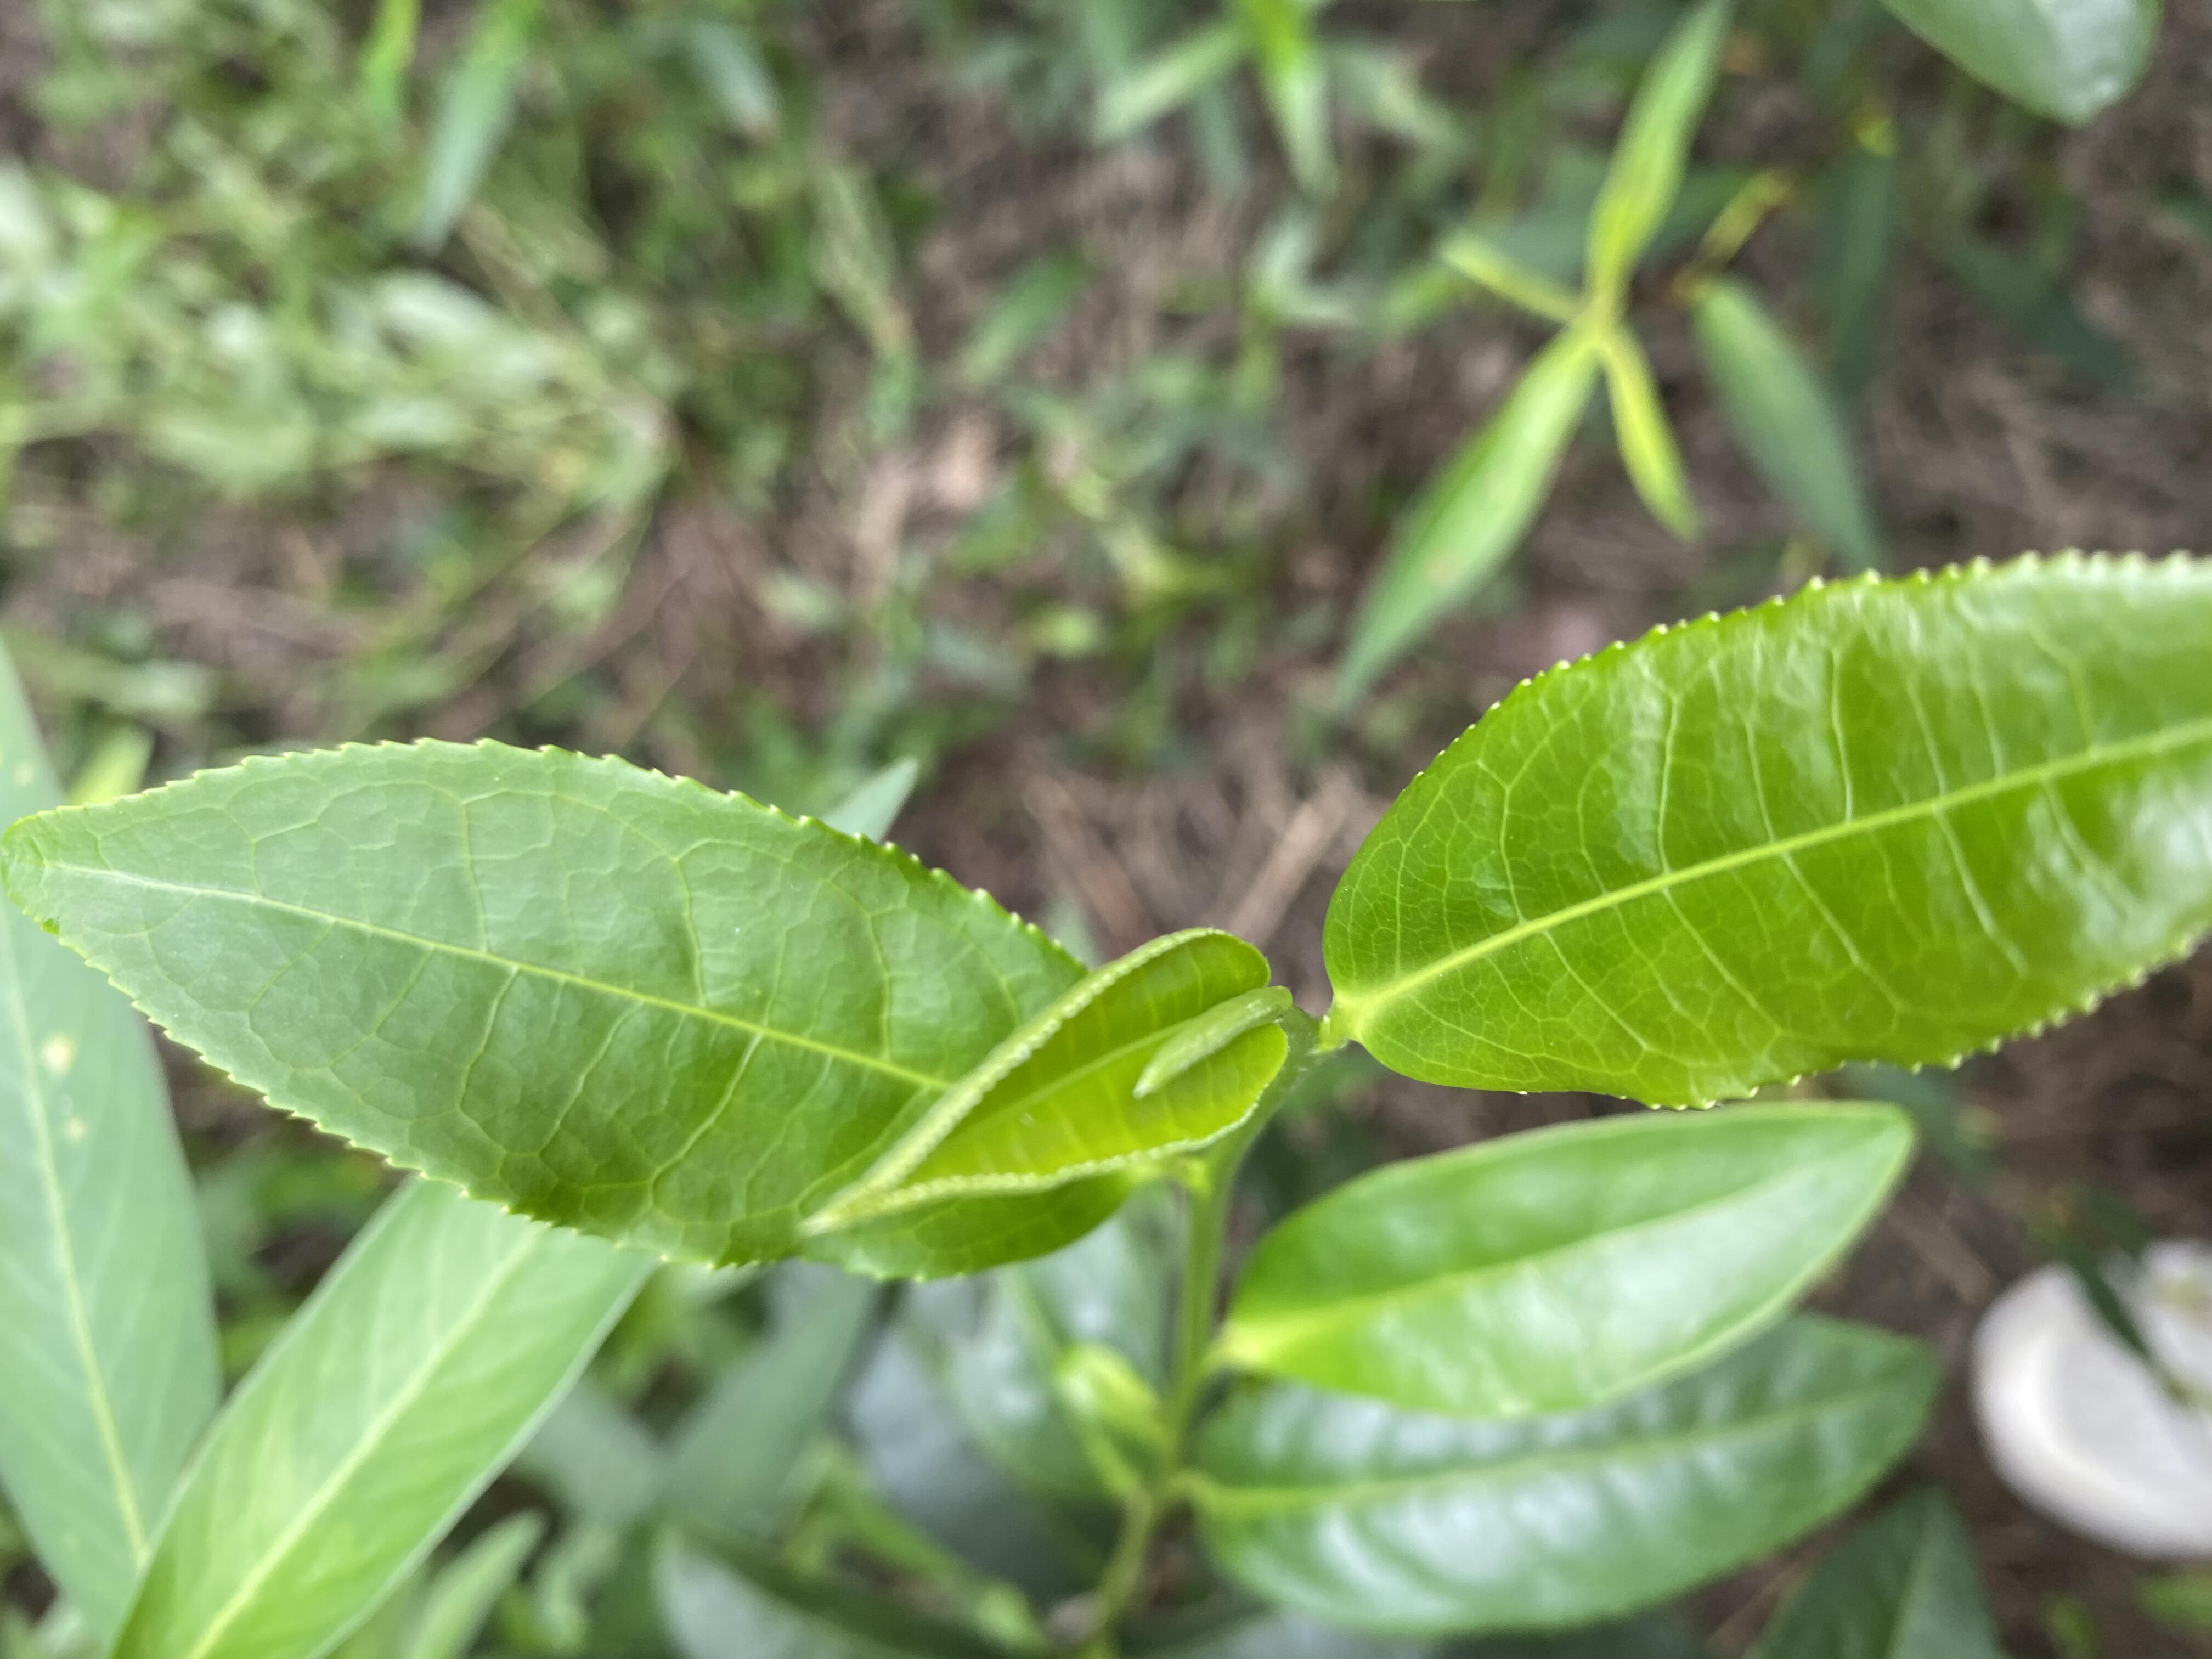healthy: (7, 735, 1160, 1283), (1322, 542, 2210, 1115), (803, 925, 1292, 1223)
